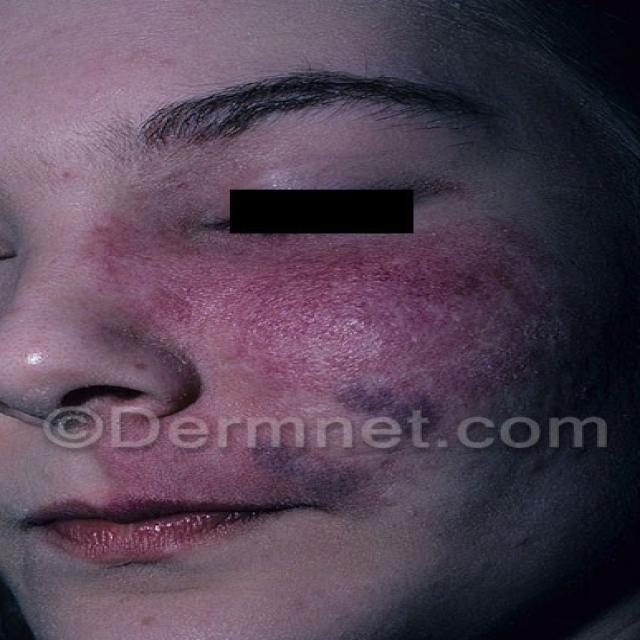Vascular Tumors: (91, 156, 617, 531)
